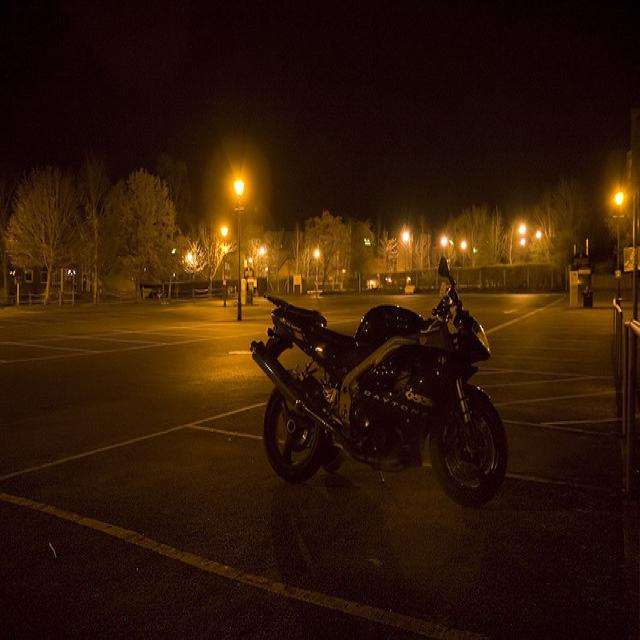Motorbike: (244, 278, 517, 541)
